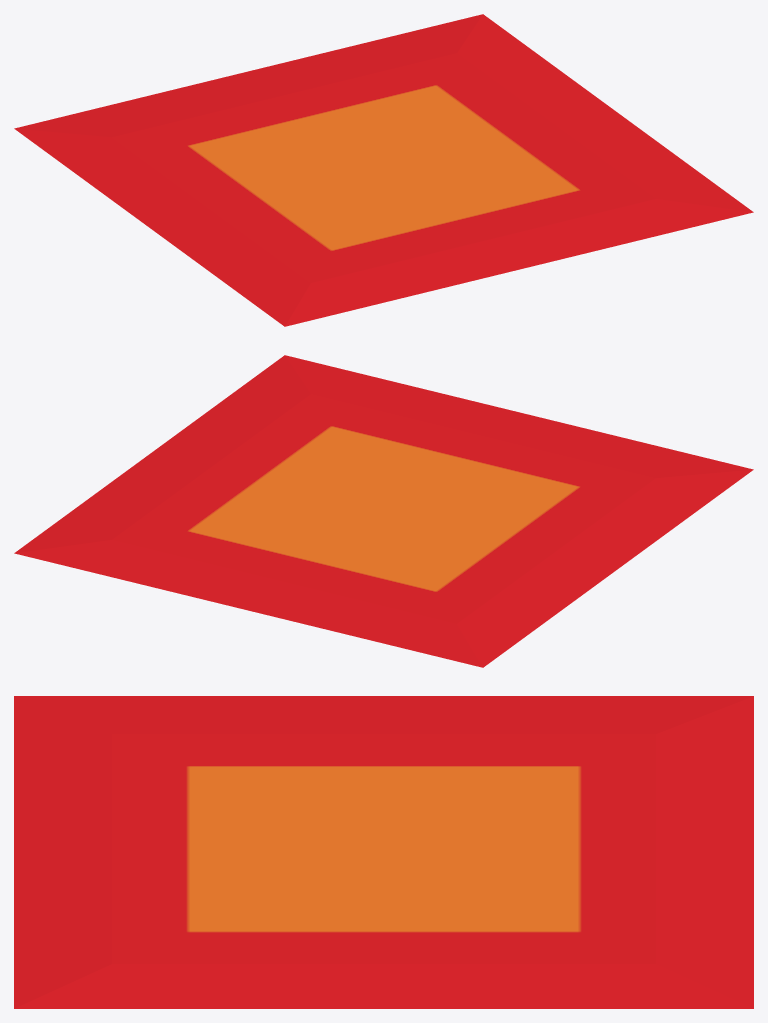
The model's file is trampoline.gltf.
3 views of the same model, one above another, from view 1: azimuth 30°, elevation 25°; view 2: azimuth 150°, elevation 25°; view 3: azimuth 270°, elevation 25° (orthographic). The views are drawn at different scales.
Visible parts, largest first — view 1: Cube; view 2: Cube; view 3: Cube.
Part boxes in pixels (x1,y1,x2,y2): Cube: [14, 14, 753, 326]; Cube: [14, 355, 753, 667]; Cube: [14, 696, 753, 1008].
Bounding box in the file's own units: 4 × 0.02 × 4.
Materials: 1 (1 with a texture image).
